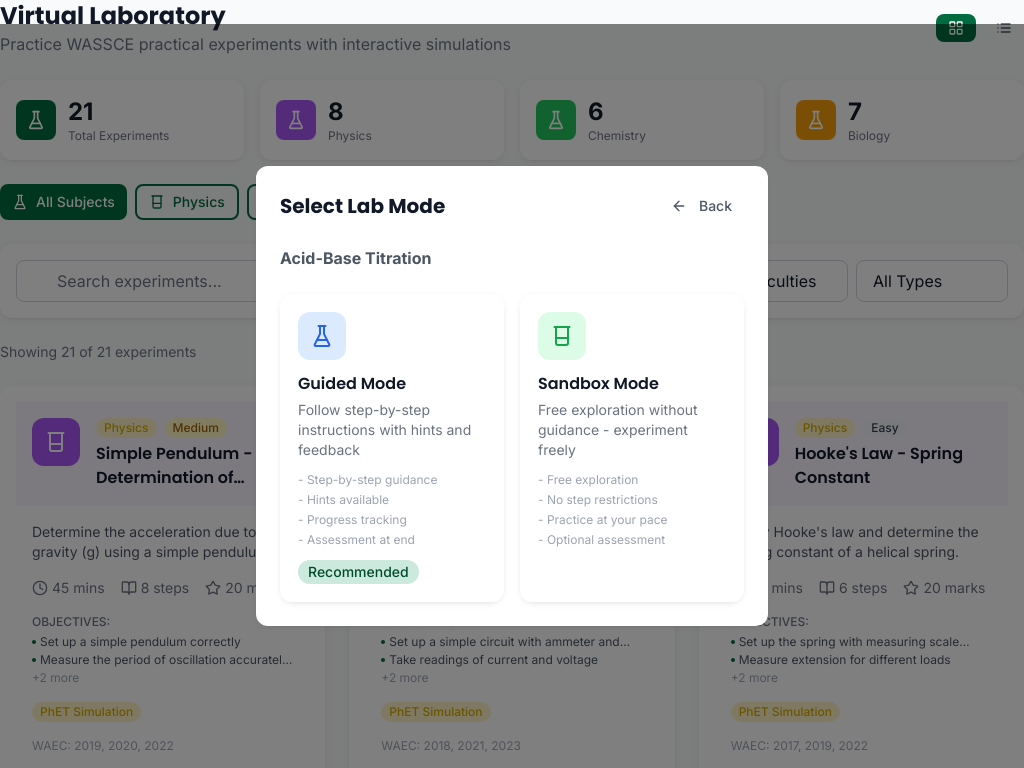
Test: VirtualLabPage mode selection error handling › passes through non-rate-limit server errors verbatim
Click the element that starts with "Guided Mode".
click(392, 448)  # box [280,294,504,602]
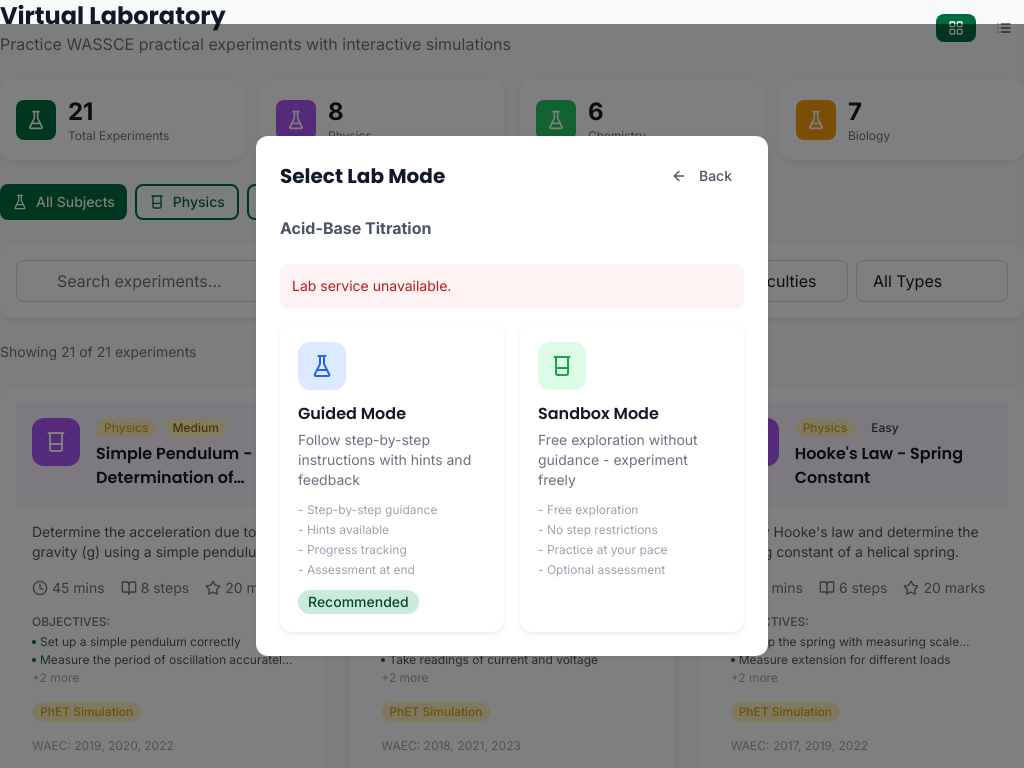
Expected: the message "Lab service unavailable." is shown, [280,264,744,308]
